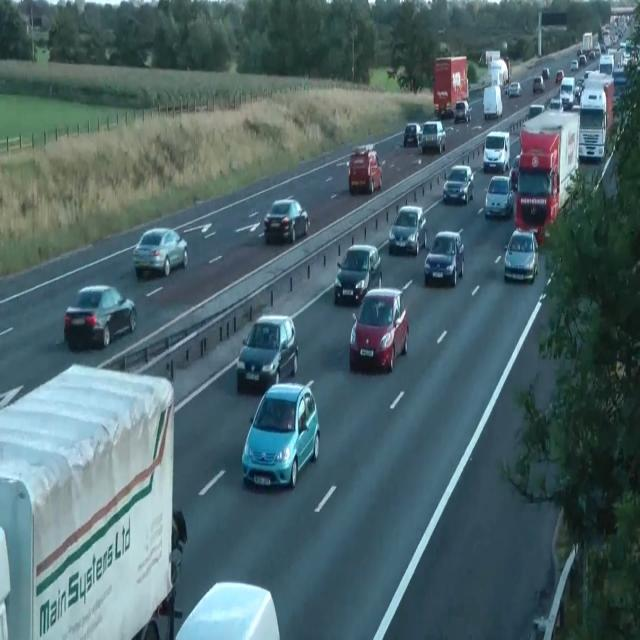bus: (242, 379, 320, 489), (135, 508, 187, 639), (174, 581, 280, 639), (349, 287, 409, 373), (236, 314, 298, 392), (64, 284, 136, 351), (334, 243, 382, 305), (132, 227, 188, 278), (424, 230, 464, 286), (264, 198, 310, 244), (388, 204, 428, 256), (504, 228, 538, 282), (484, 174, 514, 219), (442, 164, 474, 204), (403, 121, 422, 148), (509, 154, 520, 191), (454, 100, 471, 122), (545, 97, 563, 113), (507, 81, 521, 97), (575, 78, 585, 100), (530, 103, 544, 118), (532, 76, 544, 92), (555, 70, 564, 84), (386, 68, 396, 79), (542, 67, 550, 79), (570, 59, 578, 70), (578, 54, 586, 65), (503, 83, 509, 94)
jeep: (348, 146, 382, 194), (482, 130, 510, 173), (418, 119, 446, 153)
minibus: (0, 362, 186, 639), (514, 110, 580, 244), (576, 73, 614, 163), (433, 55, 469, 118), (482, 85, 502, 119), (490, 57, 510, 88), (478, 50, 500, 66), (582, 31, 592, 54)
